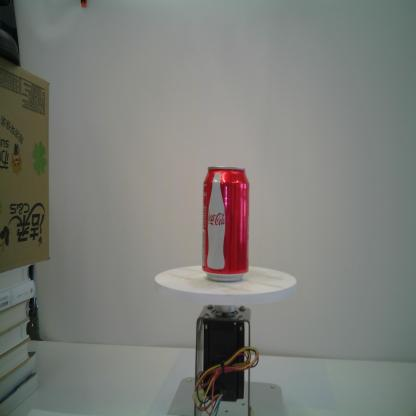Drink: (200, 164, 250, 286)
